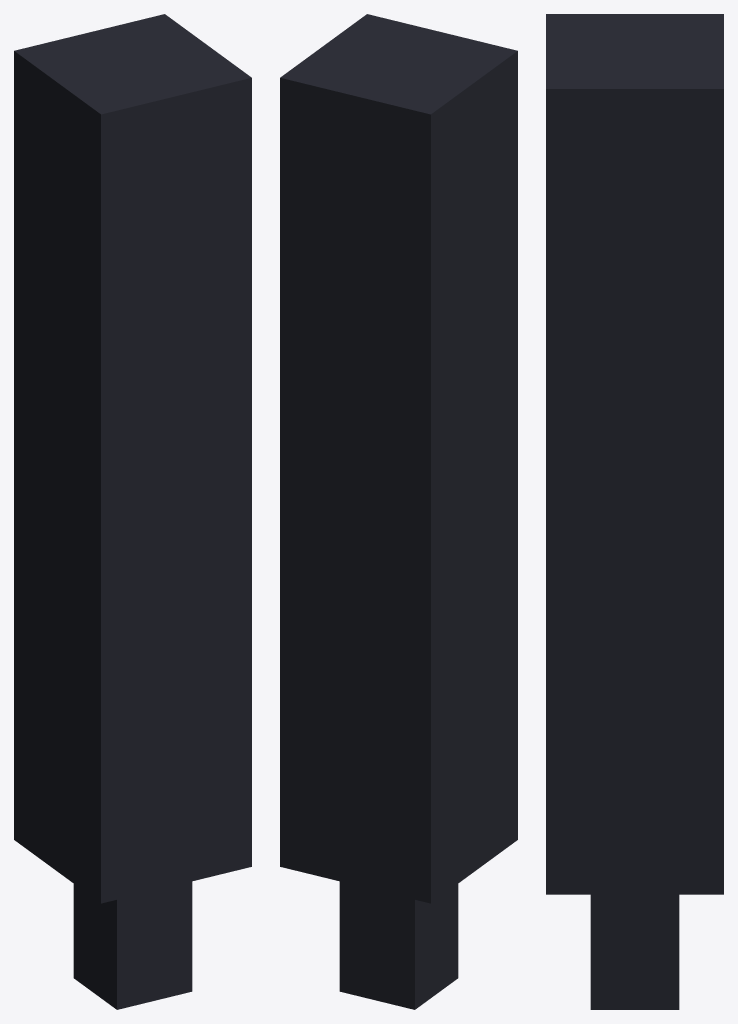
Rendered from sharpie.glb.
The picture shows the model from 3 angles, left to right: view 1: azimuth 30°, elevation 25°; view 2: azimuth 150°, elevation 25°; view 3: azimuth 270°, elevation 25°; orthographic projection. The views are drawn at different scales.
Visible parts, largest first — view 1: sharpie; view 2: sharpie; view 3: sharpie.
Part boxes in pixels (left/top/right/bottom): sharpie: left=14, top=14, right=251, bottom=1009; sharpie: left=280, top=14, right=517, bottom=1009; sharpie: left=546, top=14, right=723, bottom=1009.
Bounding box in the file's own units: 0.03 × 0.175 × 0.03.
Materials: 1 (1 with a texture image).
